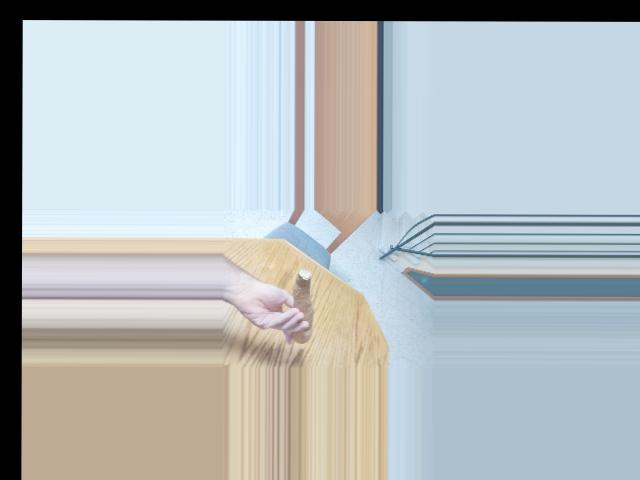sweet_potato: (287, 274, 319, 338)
